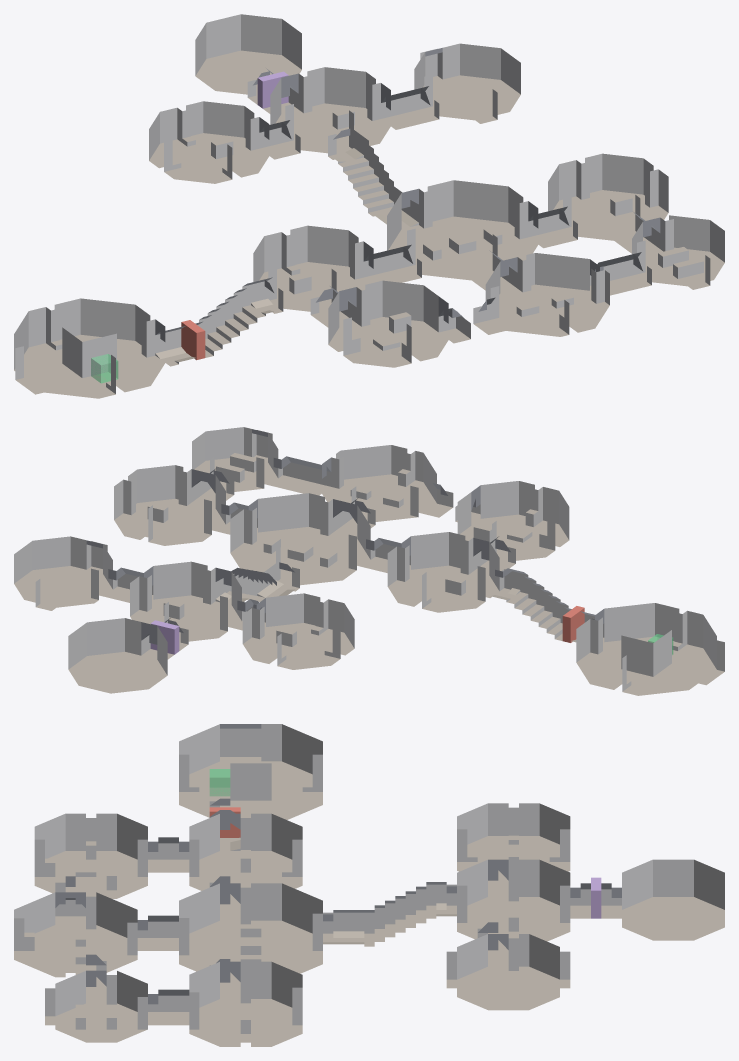
The model's file is station_6_tree_derelict.glb.
The picture shows the model from 3 angles, top to bottom: view 1: azimuth 30°, elevation 25°; view 2: azimuth 150°, elevation 25°; view 3: azimuth 270°, elevation 25°; orthographic projection. The views are drawn at different scales.
Visible parts, largest first — view 1: room:2, room:4, room:5, room:7, room:8, room:6, room:10, room:1, room:3, room:0, room:9, corridor:3 (+19 smaller); view 2: room:2, room:4, room:10, room:3, room:5, room:6, room:8, room:7, room:1, room:0, room:9, corridor:3 (+22 smaller); view 3: room:2, room:4, room:10, room:5, room:8, room:7, room:1, room:0, room:3, room:6, corridor:1, room:9 (+22 smaller).
Boxes of the visible parts, x1=… form: room:2: x1=387, y1=180, x2=538, y2=280; room:4: x1=14, y1=298, x2=165, y2=398; room:5: x1=328, y1=280, x2=448, y2=367; room:7: x1=485, y1=253, x2=609, y2=336; room:8: x1=548, y1=153, x2=668, y2=240; room:6: x1=149, y1=101, x2=269, y2=183; room:10: x1=195, y1=14, x2=301, y2=95; room:1: x1=270, y1=67, x2=390, y2=153; room:3: x1=253, y1=225, x2=373, y2=312; room:0: x1=414, y1=43, x2=520, y2=120; room:9: x1=632, y1=215, x2=724, y2=286; corridor:3: x1=155, y1=277, x2=283, y2=366; room:2: x1=230, y1=493, x2=370, y2=585; room:4: x1=576, y1=603, x2=716, y2=695; room:10: x1=68, y1=618, x2=167, y2=693; room:3: x1=387, y1=532, x2=499, y2=612; room:5: x1=457, y1=481, x2=569, y2=561; room:6: x1=242, y1=593, x2=354, y2=669; room:8: x1=114, y1=465, x2=225, y2=545; room:7: x1=322, y1=445, x2=436, y2=521; room:1: x1=130, y1=561, x2=241, y2=642; room:0: x1=14, y1=536, x2=112, y2=607; room:9: x1=192, y1=427, x2=278, y2=492; corridor:3: x1=490, y1=568, x2=604, y2=642; room:2: x1=179, y1=883, x2=322, y2=981; room:4: x1=179, y1=724, x2=322, y2=819; room:10: x1=622, y1=859, x2=724, y2=940; room:5: x1=34, y1=813, x2=147, y2=898; room:8: x1=189, y1=961, x2=302, y2=1046; room:7: x1=14, y1=892, x2=137, y2=977; room:1: x1=457, y1=859, x2=570, y2=944; room:0: x1=457, y1=934, x2=559, y2=1010; room:3: x1=189, y1=813, x2=302, y2=898; room:6: x1=457, y1=803, x2=570, y2=883; corridor:1: x1=323, y1=882, x2=456, y2=946; room:9: x1=55, y1=970, x2=147, y2=1042.
Bounding box in the file's own units: 73 × 10 × 69.
